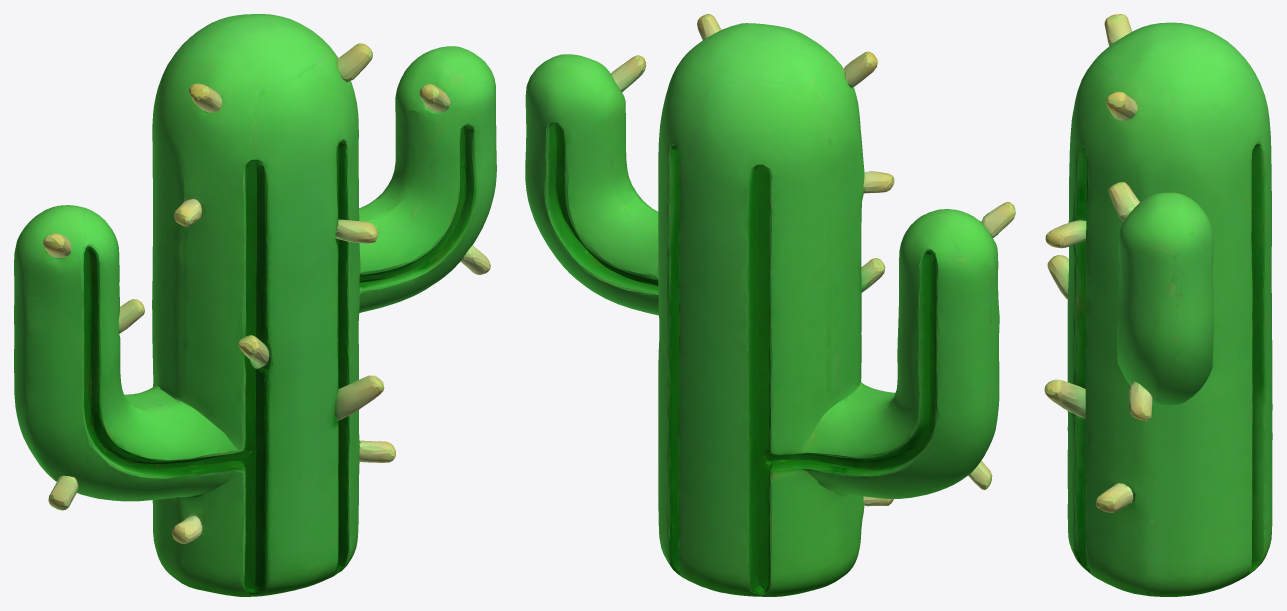
The model's file is cactus.glb.
3 views of the same model, side by side, from view 1: azimuth 30°, elevation 25°; view 2: azimuth 150°, elevation 25°; view 3: azimuth 270°, elevation 25° (orthographic).
Visible parts, largest first — view 1: Mesh; view 2: Mesh; view 3: Mesh.
Boxes of the visible parts, x1,y1,x2,y2 form: Mesh: [14, 14, 496, 596]; Mesh: [525, 14, 1015, 596]; Mesh: [1044, 14, 1272, 596].
Bounding box in the file's own units: 0.9132 × 1 × 0.3907.
1 material, 1 textured.
